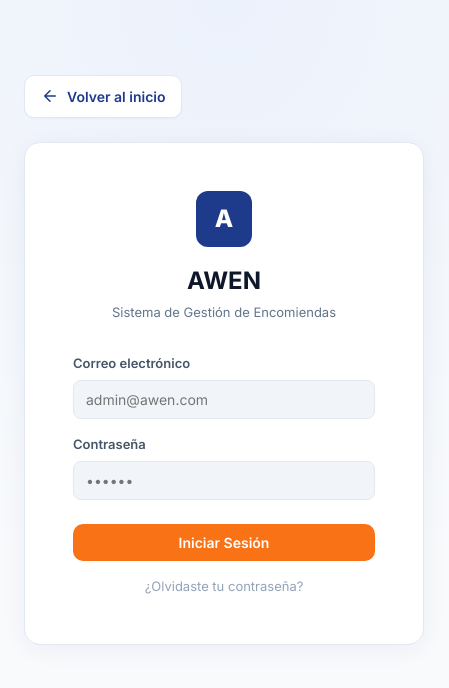
Test case: Login page › shows forgot password contact message
This screenshot has width=449, height=688.
Click the link "¿Olvidaste tu contraseña?" at [224, 586], box [145, 578, 303, 594]
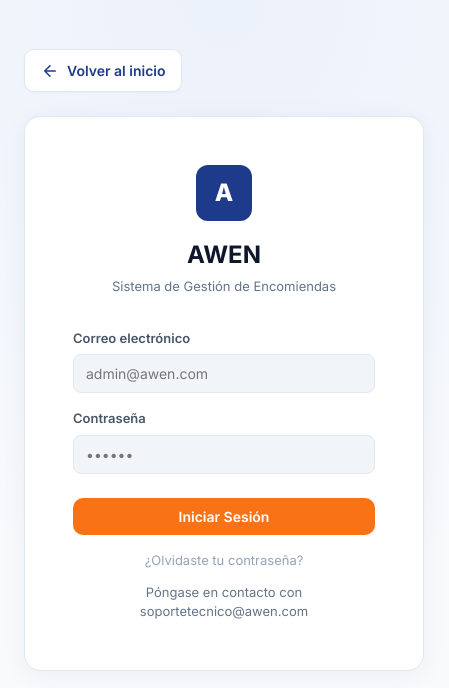
Now the text "Póngase en contacto con soportetecnico@awen.com" is shown, box [140, 584, 308, 619]
